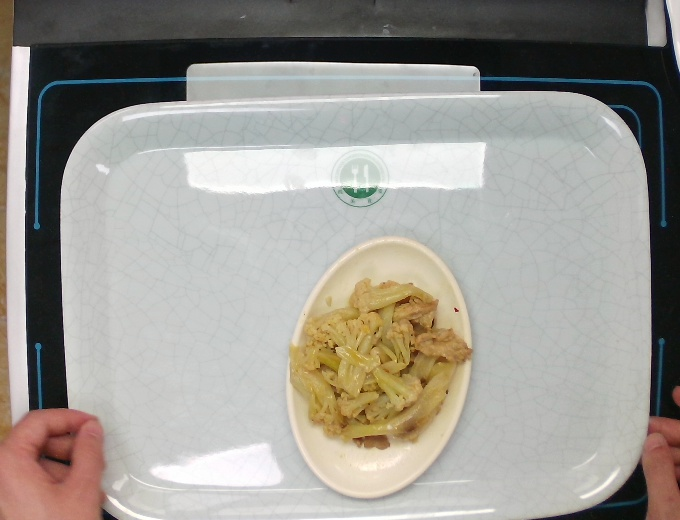JYsf-Tuo_Yuan_Wan: (280, 224, 483, 503)
